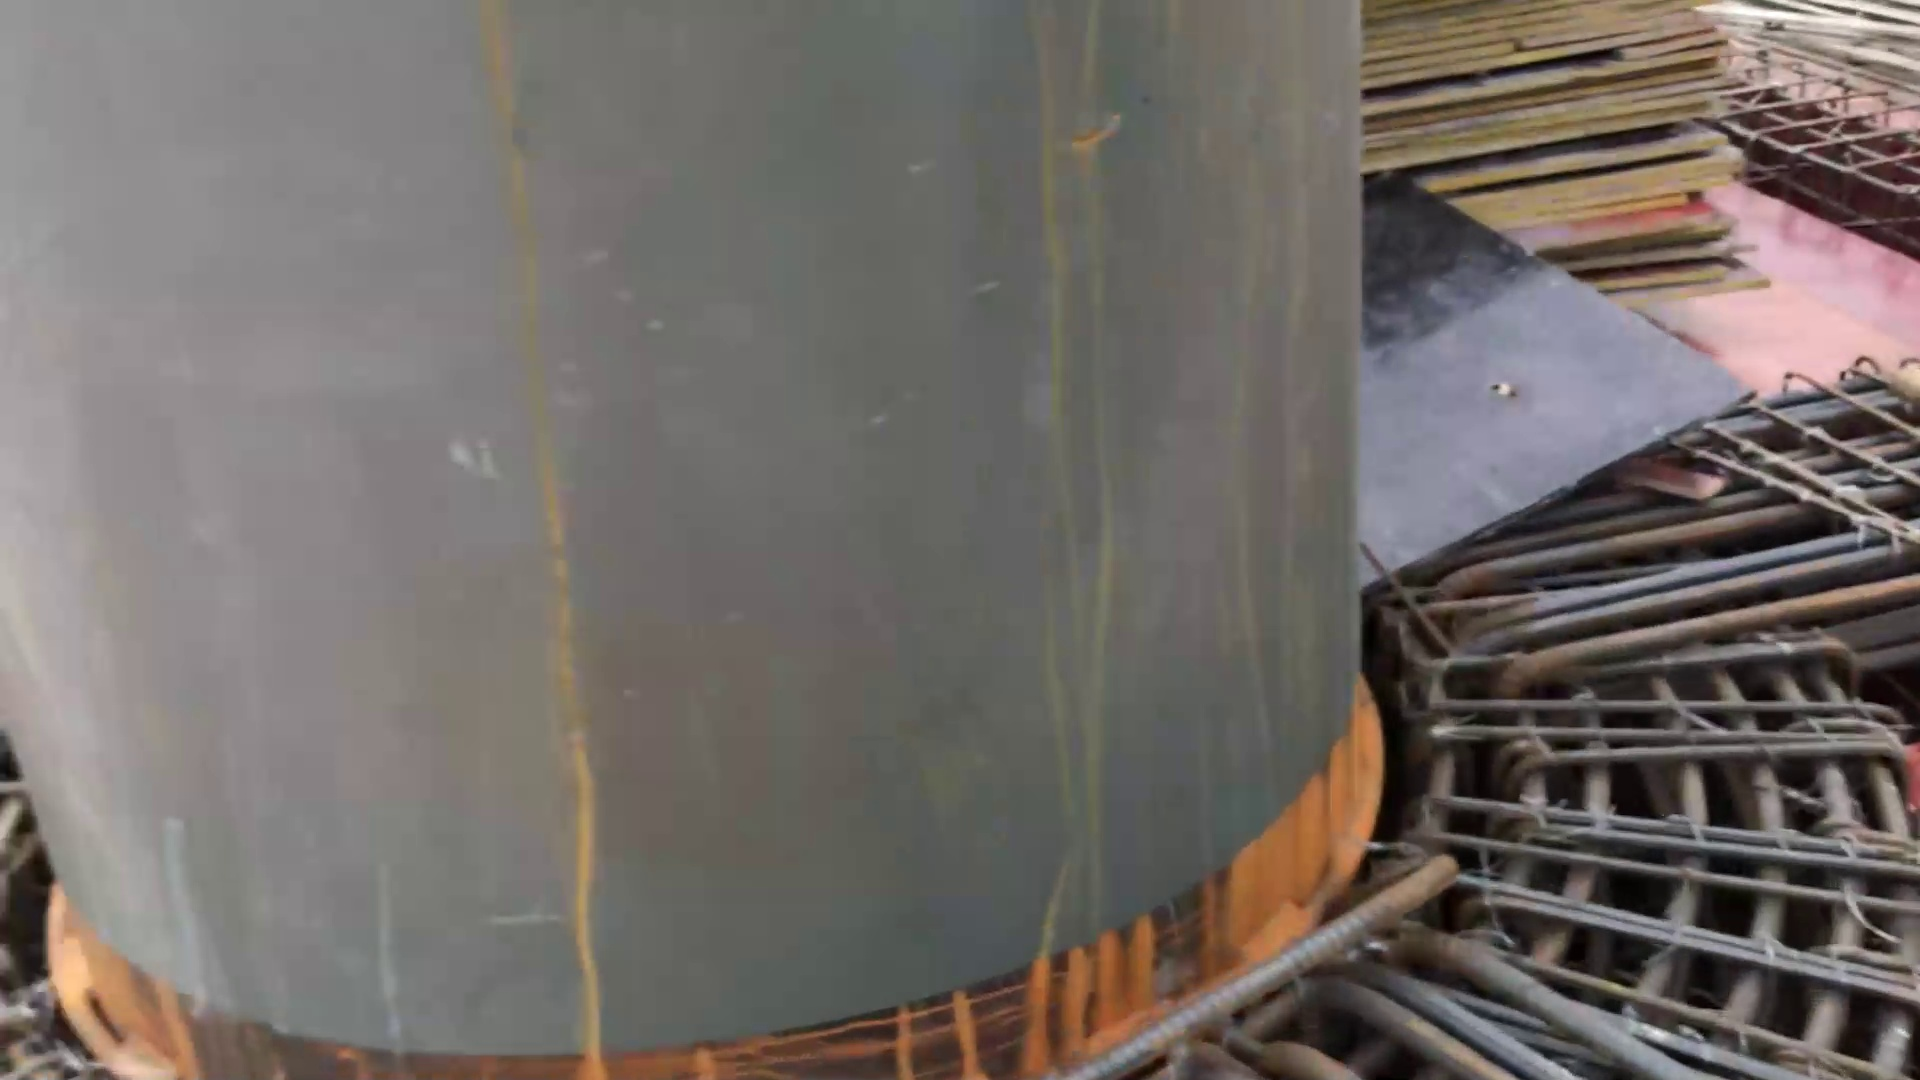board: (1358, 1, 1778, 344)
